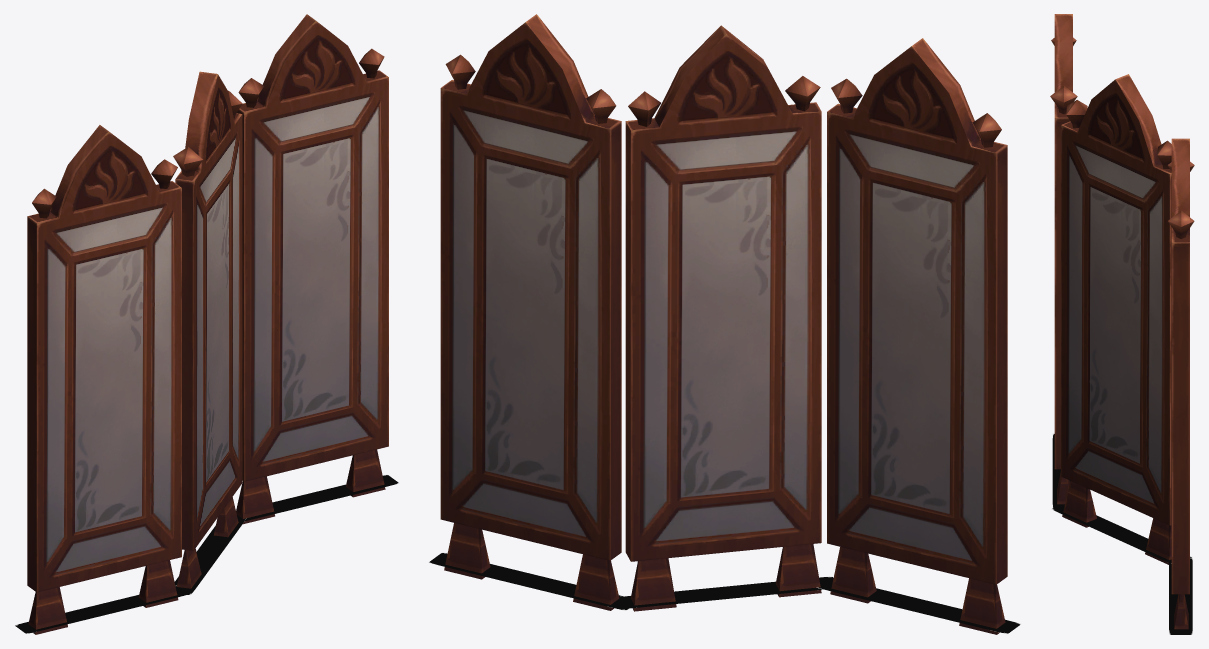
The model's file is jj_ty_pingfeng01.FBX.
The picture shows the model from 3 angles, left to right: view 1: azimuth 30°, elevation 25°; view 2: azimuth 150°, elevation 25°; view 3: azimuth 270°, elevation 25°; orthographic projection. The views are drawn at different scales.
Parts seen in each view (by area): view 1: jj_ty_pingfeng01, shadow; view 2: jj_ty_pingfeng01, shadow; view 3: jj_ty_pingfeng01, shadow.
Boxes of the visible parts, x1,y1,x2,y2 form: jj_ty_pingfeng01: (27,14,388,634); shadow: (14,474,399,634); jj_ty_pingfeng01: (440,14,1007,634); shadow: (428,552,1021,634); jj_ty_pingfeng01: (1050,14,1194,629); shadow: (1051,433,1193,634).
Bounding box in the file's own units: 210 × 225 × 63.78.
